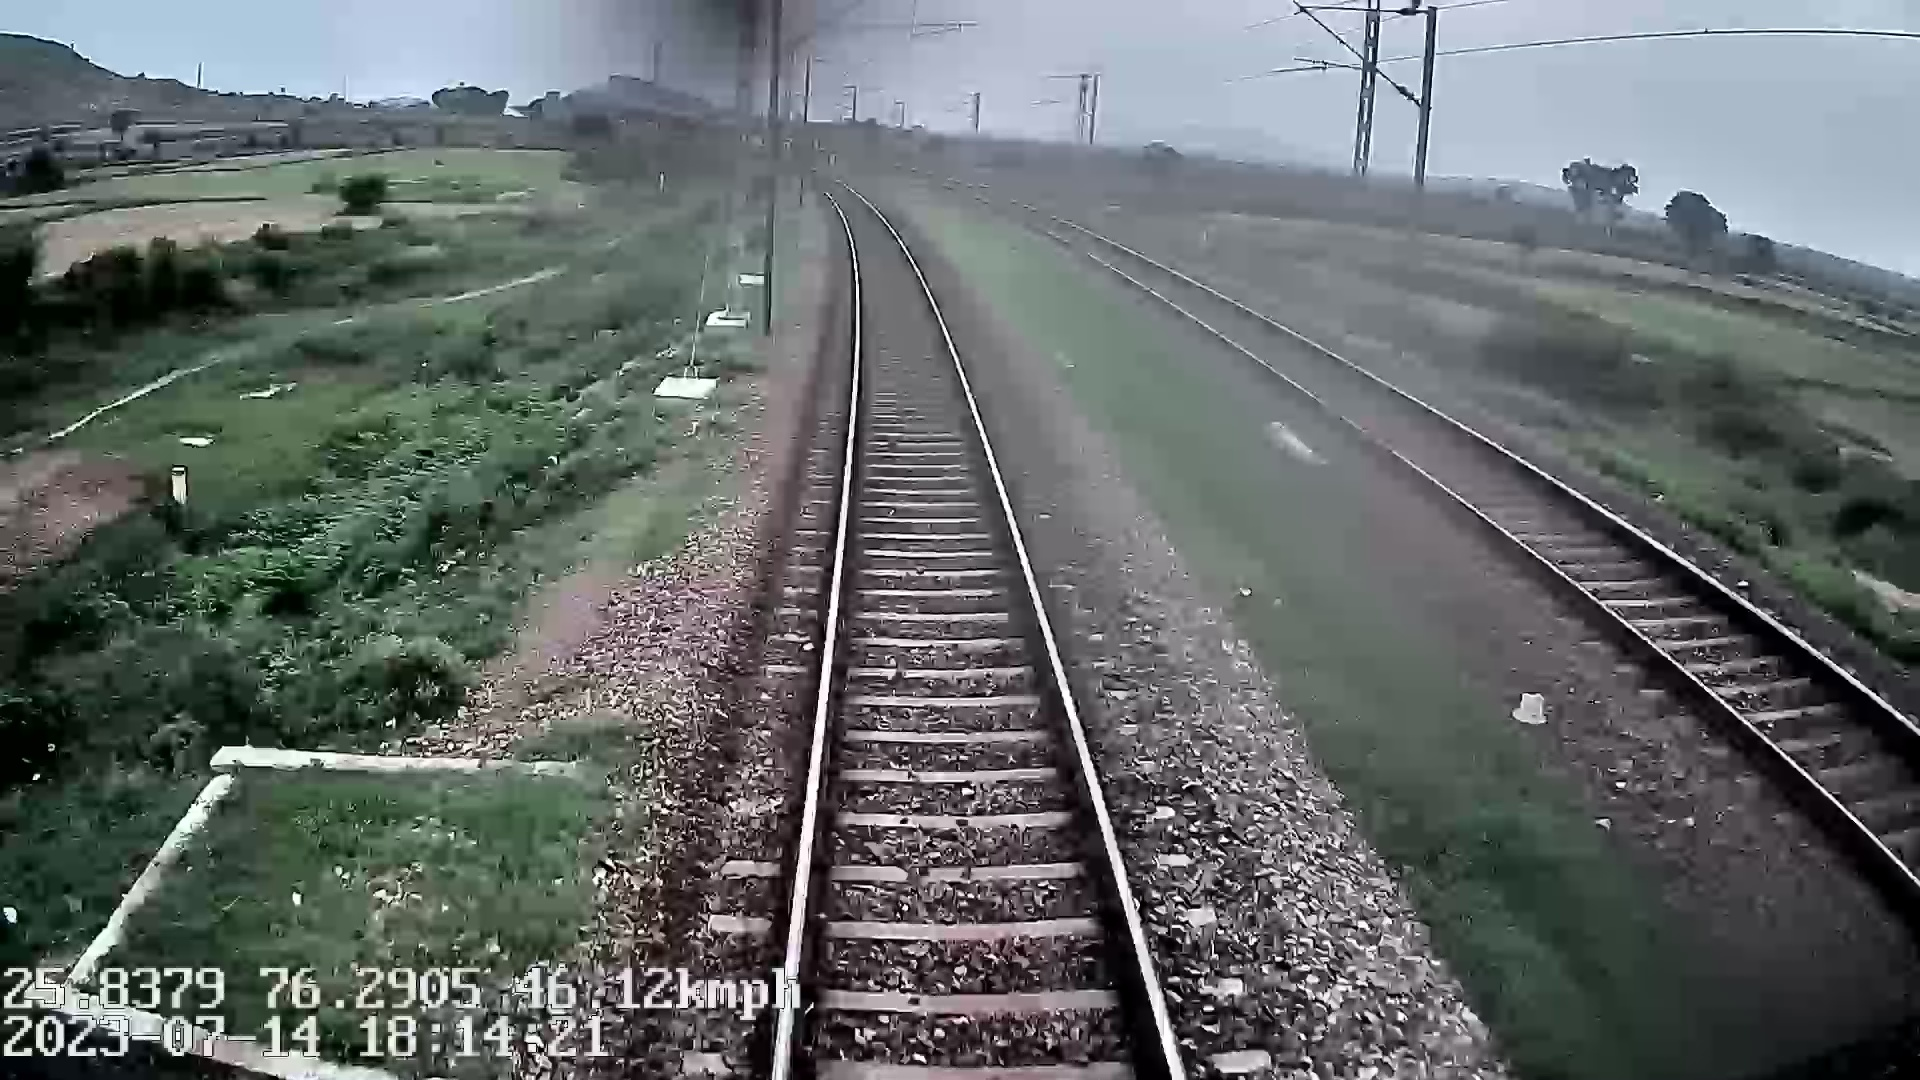track1: (781, 198, 1172, 1063)
track2: (1098, 253, 1904, 862)
